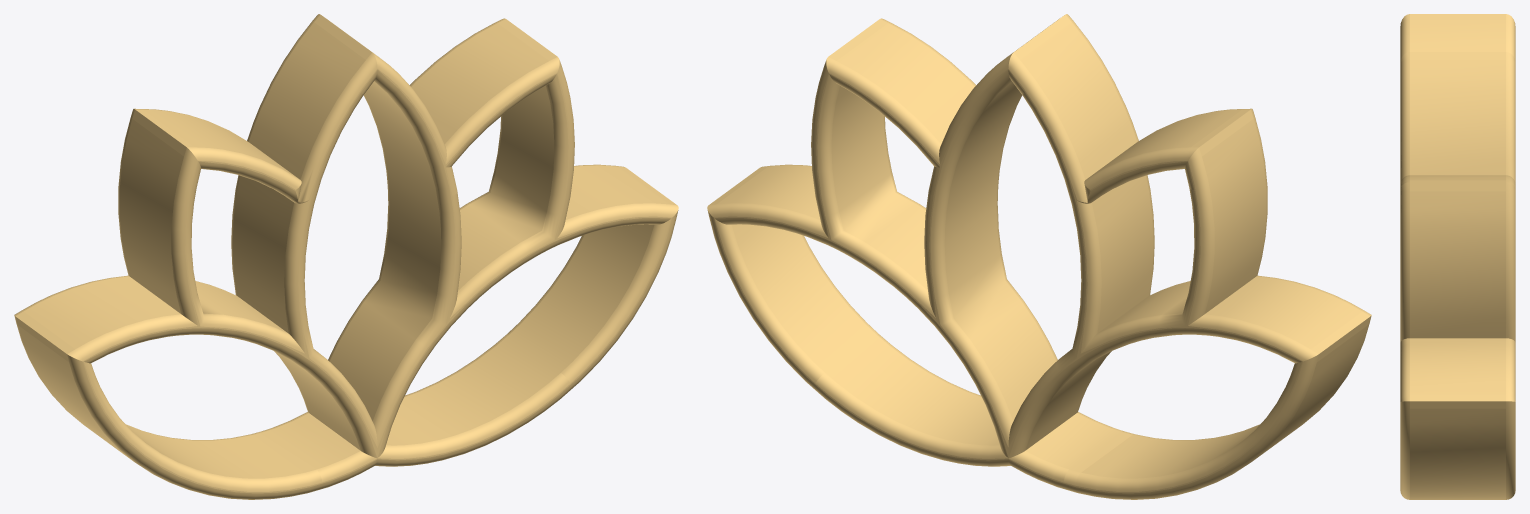
File: goldMatteHigh.gltf
3 views of the same model, side by side, from view 1: azimuth 30°, elevation 25°; view 2: azimuth 150°, elevation 25°; view 3: azimuth 270°, elevation 25° (orthographic). The views are drawn at different scales.
Parts seen in each view (by area): view 1: Fill; view 2: Fill; view 3: Fill.
Part boxes in pixels (<box>): Fill: <box>14,14,678,499</box>; Fill: <box>707,14,1371,499</box>; Fill: <box>1400,14,1515,499</box>.
Bounding box in the file's own units: 0.3407 × 0.2261 × 0.06.
